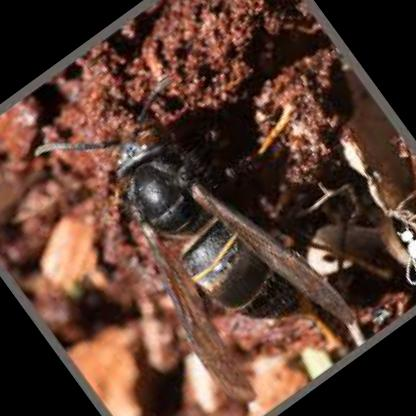asian: (23, 11, 413, 415)
